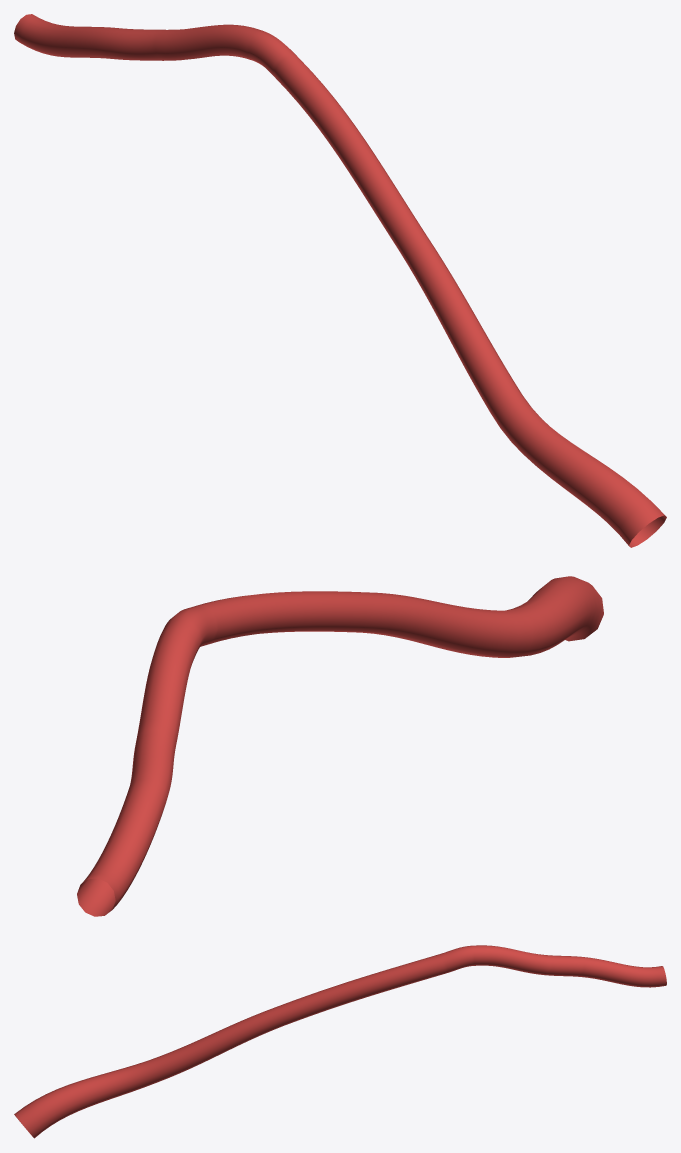
The picture shows the model from 3 angles, top to bottom: view 1: azimuth 30°, elevation 25°; view 2: azimuth 150°, elevation 25°; view 3: azimuth 270°, elevation 25°; orthographic projection. The views are drawn at different scales.
Parts seen in each view (by area): view 1: 右侧腘动脉; view 2: 右侧腘动脉; view 3: 右侧腘动脉.
Part boxes in pixels (x1=…): 右侧腘动脉: x1=14, y1=14, x2=666, y2=547; 右侧腘动脉: x1=77, y1=576, x2=603, y2=916; 右侧腘动脉: x1=14, y1=945, x2=666, y2=1138.
Bounding box in the file's own units: 0.0517 × 0.085 × 0.2829.
